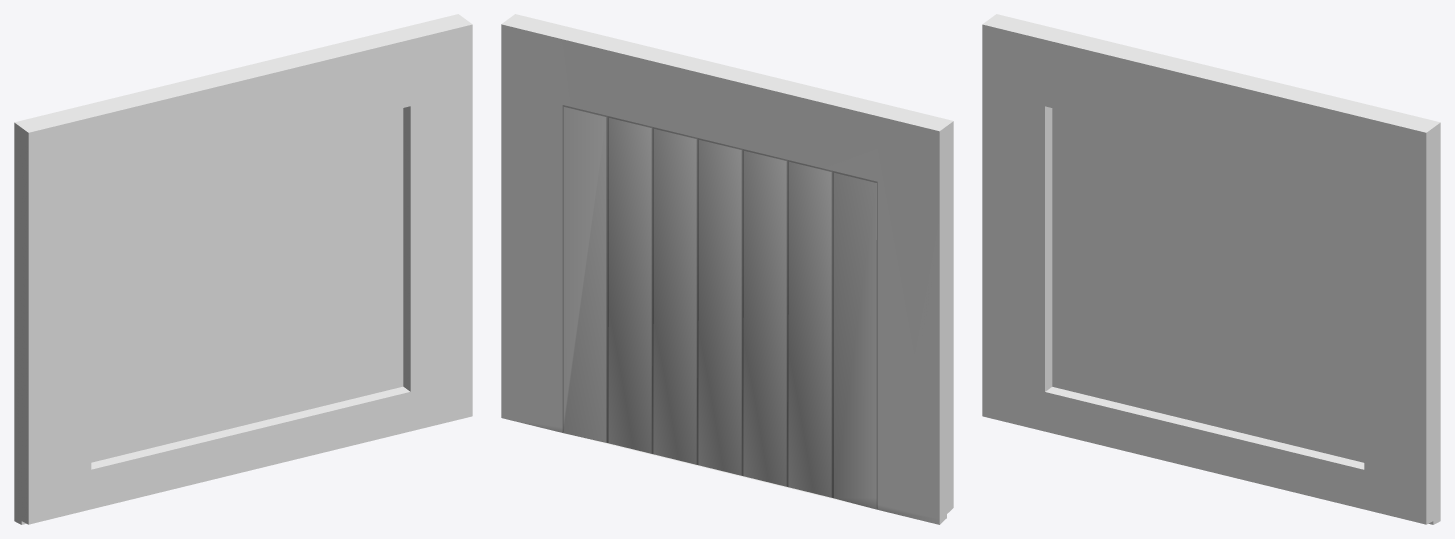
File: StableDoorWhiteUPPER01.fbx
3 views of the same model, side by side, from view 1: azimuth 30°, elevation 25°; view 2: azimuth 150°, elevation 25°; view 3: azimuth 330°, elevation 25° (orthographic).
Visible parts, largest first — view 1: default; view 2: default; view 3: default.
Boxes of the visible parts, x1=… form: default: x1=14, y1=14, x2=472, y2=524; default: x1=501, y1=14, x2=953, y2=524; default: x1=982, y1=14, x2=1440, y2=524.
Size of the model in its own units: 113 by 96.82 by 6.29.
